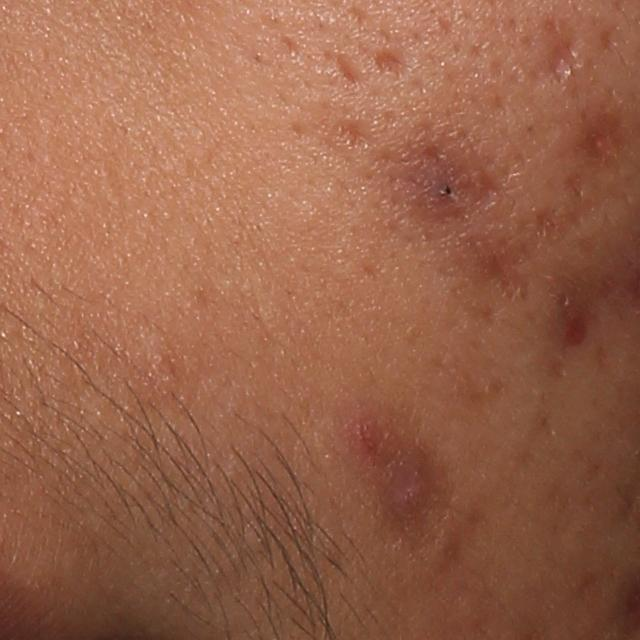atrophic_scar: (549, 287, 605, 370), (473, 250, 528, 302), (547, 34, 591, 92), (395, 123, 458, 158), (328, 115, 379, 156), (370, 47, 412, 86), (334, 52, 363, 89)
